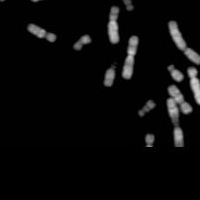chromosome: (167, 19, 200, 65), (165, 97, 186, 147), (121, 35, 140, 80), (167, 84, 193, 113), (27, 24, 57, 42), (187, 67, 200, 104), (109, 5, 121, 42), (167, 61, 185, 83), (137, 98, 156, 117), (104, 63, 118, 88), (72, 34, 91, 52), (141, 133, 156, 148), (121, 0, 135, 11), (30, 0, 59, 2), (0, 0, 18, 2)
